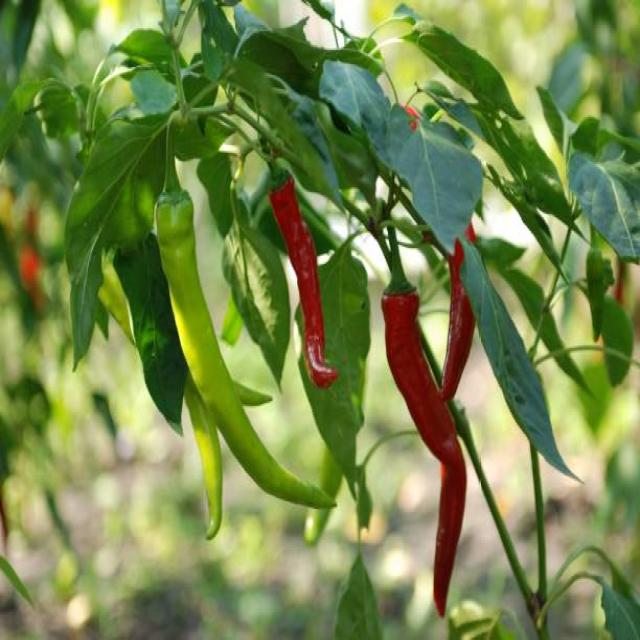Ripe: (381, 292, 465, 615), (269, 175, 338, 388), (440, 241, 475, 400)
Unripe: (156, 188, 334, 508), (184, 373, 222, 538), (99, 257, 135, 342), (232, 382, 272, 406)
